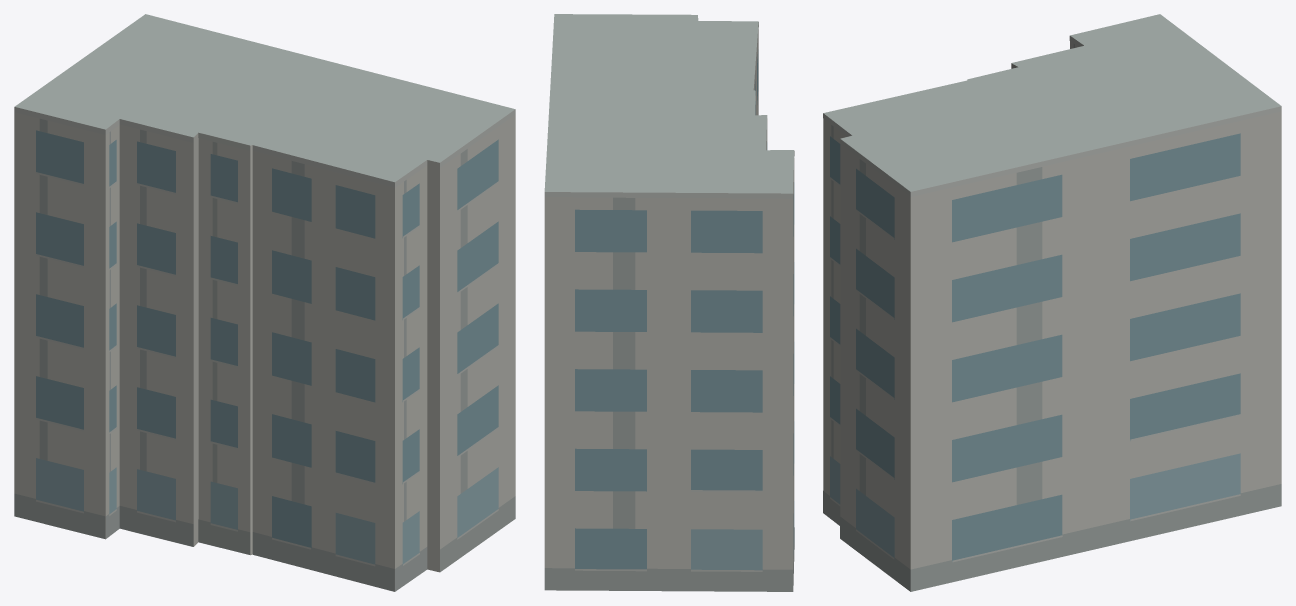
Rendered from survey-upis-32901687.glb.
3 views of the same model, side by side, from view 1: azimuth 30°, elevation 25°; view 2: azimuth 150°, elevation 25°; view 3: azimuth 270°, elevation 25° (orthographic). The views are drawn at different scales.
Parts seen in each view (by area): view 1: survey-upis-32901687.tmp; view 2: survey-upis-32901687.tmp; view 3: survey-upis-32901687.tmp.
Part boxes in pixels (left/top/right/bottom): survey-upis-32901687.tmp: left=14, top=14, right=515, bottom=591; survey-upis-32901687.tmp: left=544, top=14, right=794, bottom=591; survey-upis-32901687.tmp: left=823, top=14, right=1281, bottom=591.
Size of the model in its own units: 17.37 by 18.2 by 18.92.
